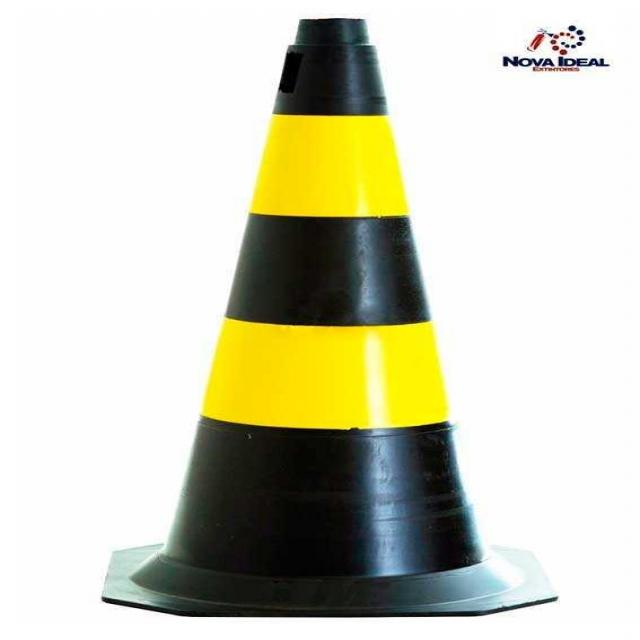cone: (120, 6, 548, 619)
